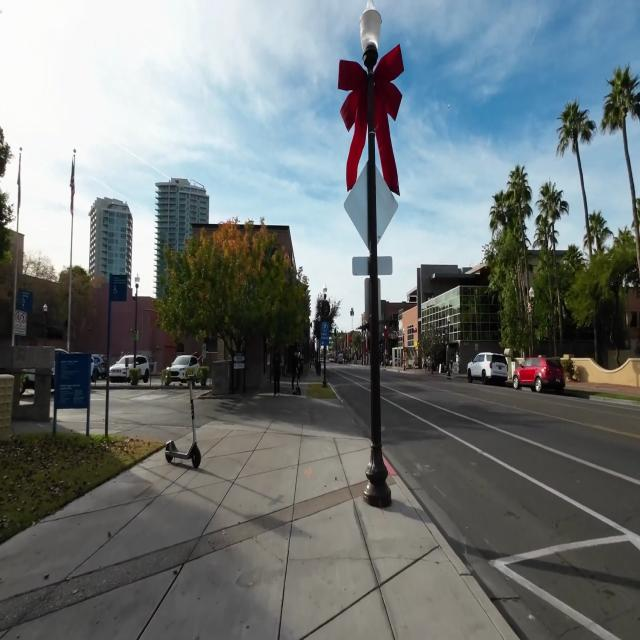road: (381, 371, 640, 639)
side walk: (0, 399, 454, 639)
street sign: (341, 34, 401, 462)
